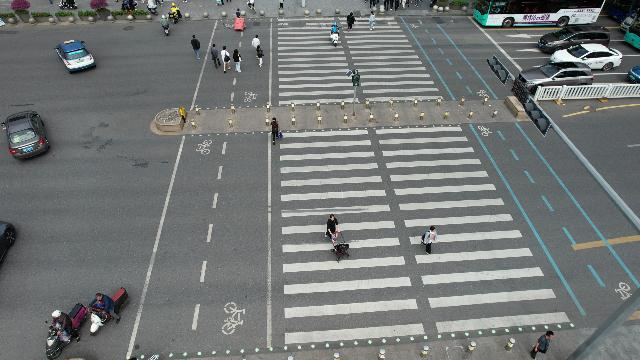non-motor-vehicle: (40, 300, 86, 358), (89, 284, 131, 338), (169, 3, 183, 25), (330, 22, 340, 46), (58, 1, 78, 12), (158, 16, 170, 34), (120, 2, 140, 10), (146, 2, 158, 14), (248, 3, 256, 14)
person: (324, 213, 350, 263), (533, 331, 555, 359), (421, 226, 439, 255), (270, 118, 284, 142), (210, 43, 222, 69), (190, 34, 200, 62), (234, 8, 246, 31), (221, 46, 231, 72), (233, 49, 241, 74), (346, 12, 356, 30), (256, 45, 264, 67), (368, 10, 376, 30), (252, 36, 258, 48)
